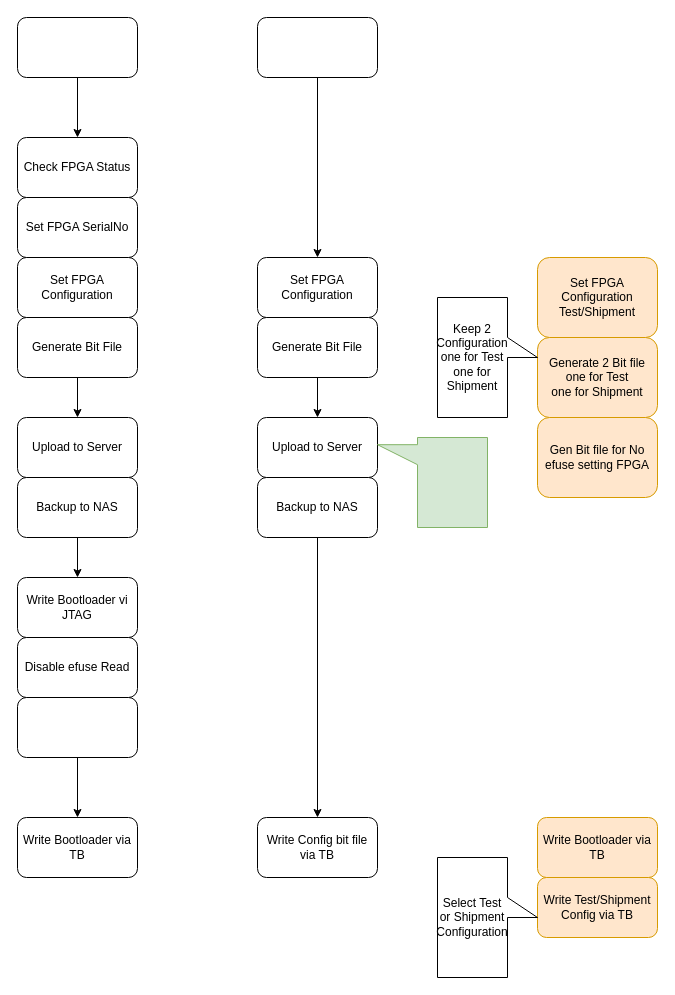
This 675x995 diagram has some shape labels left out. Here are the shapes that lost their labels. From the top down, the centre of each, then its label:
[77,47]: eFuse
[317,47]: Modify Configuration
[432,482]: Local or Remote
[77,727]: Write Bootloader via JTAG
